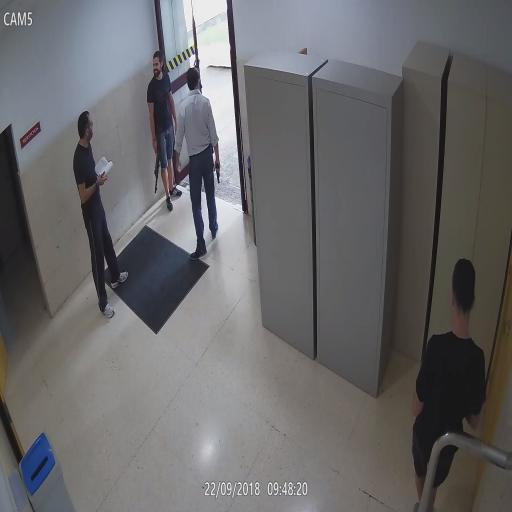Handgun: (214, 159, 222, 183)
